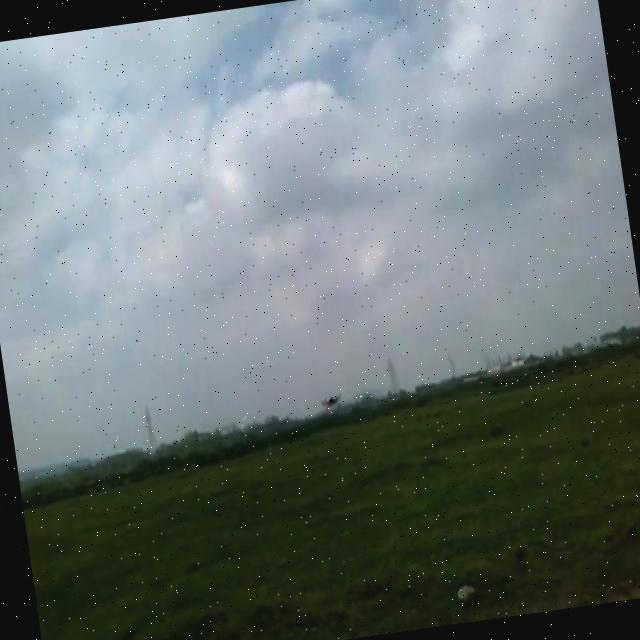drone: (318, 387, 345, 413)
